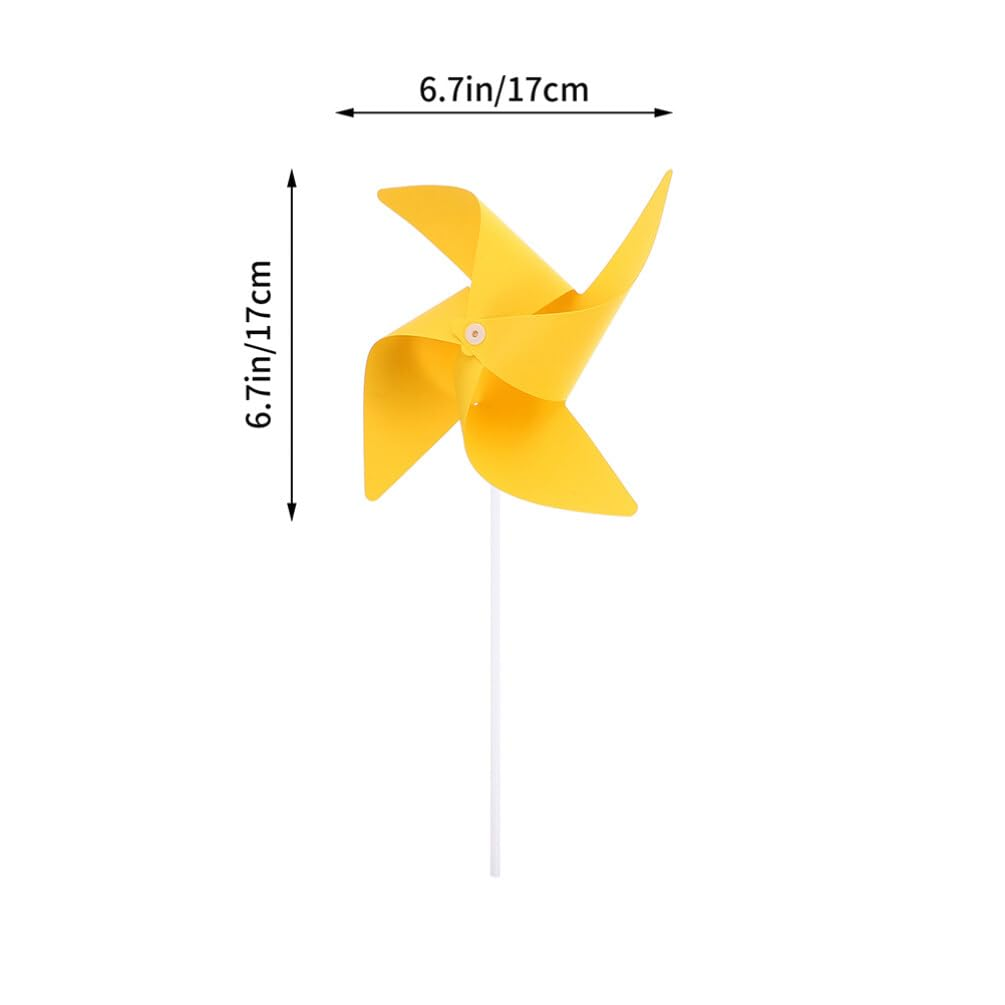6.7in/17cm: (420, 75, 588, 108)
